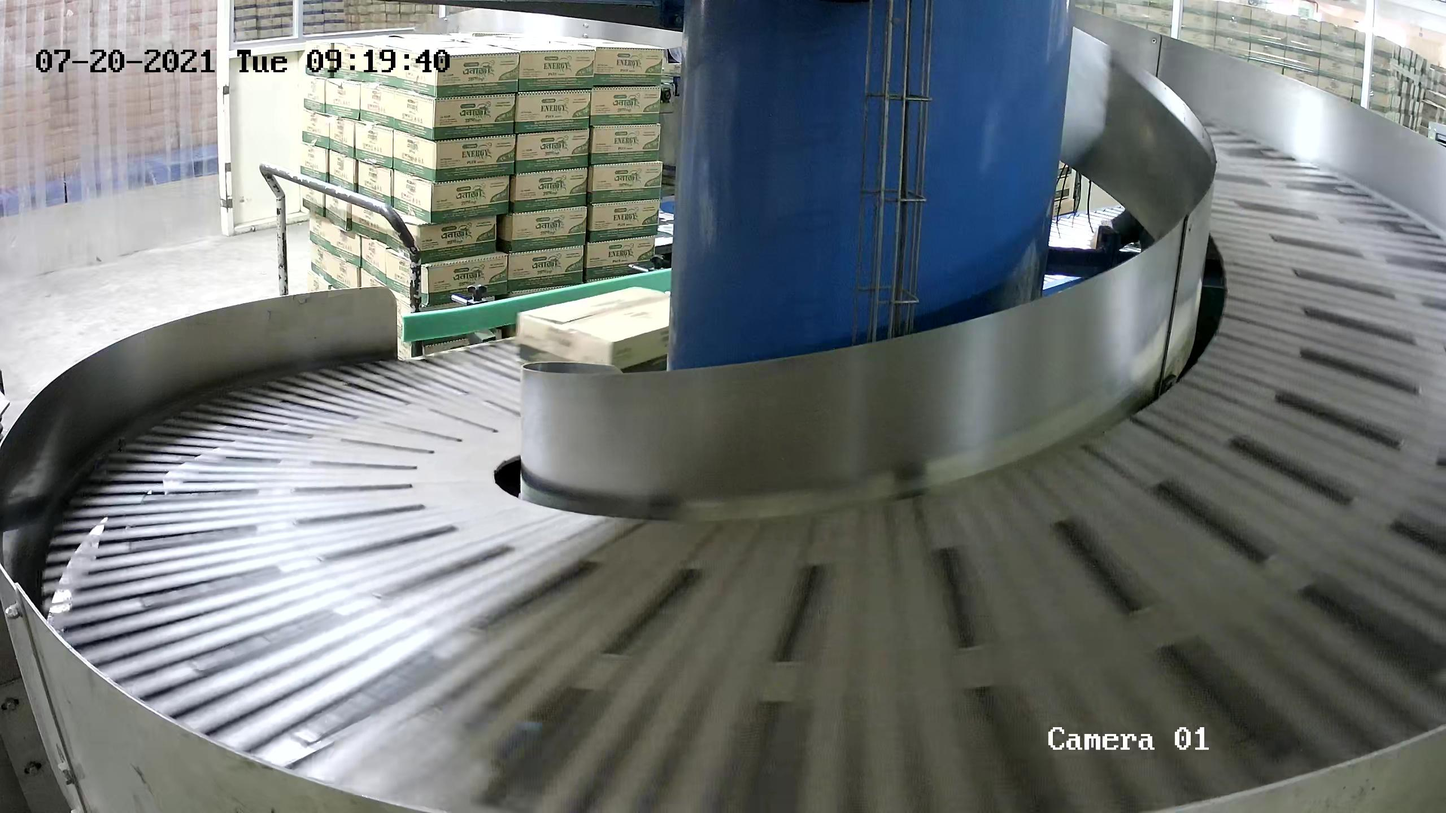Box: (515, 284, 670, 374)
